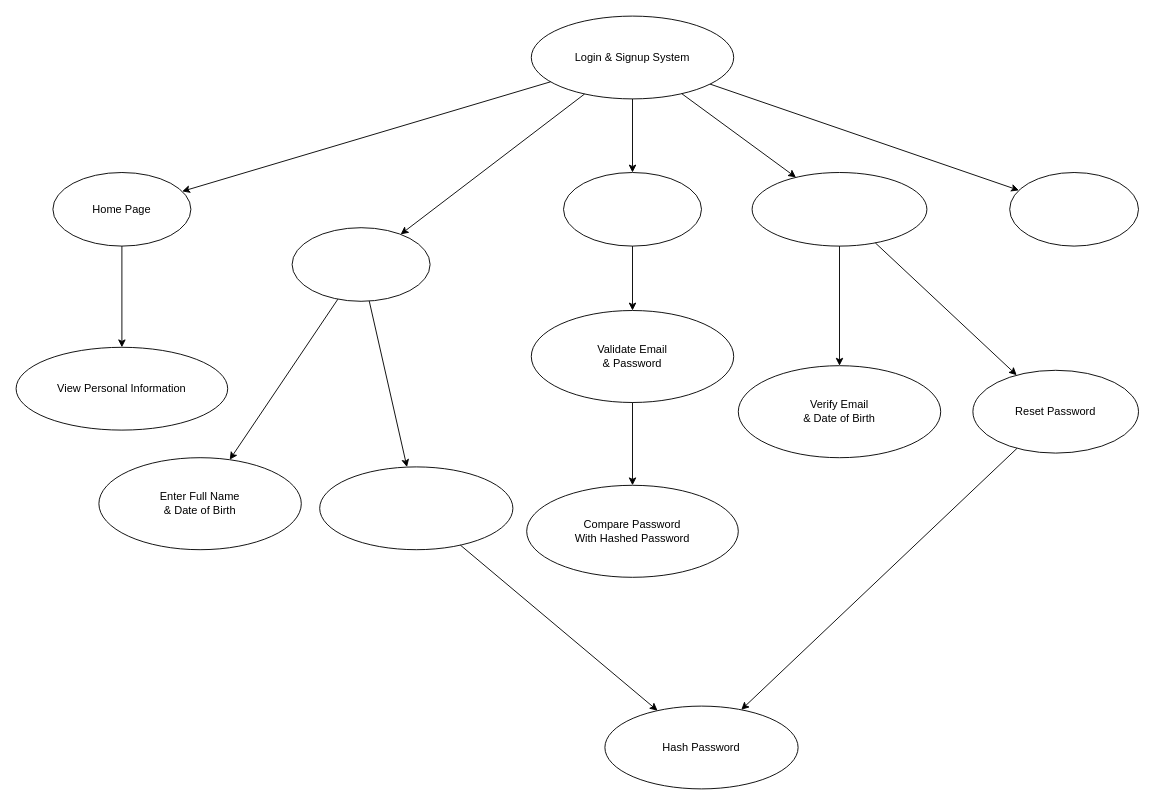
The diagram is 1155 pixels wide and 805 high, and some of its shapes have lost their labels. The centre of each missing label's shape, as x and y in pixels:
Create User Account: point (416, 508)
Forgot Password: point (839, 209)
Login: point (632, 209)
Logout: point (1073, 209)
Sign Up: point (360, 264)
